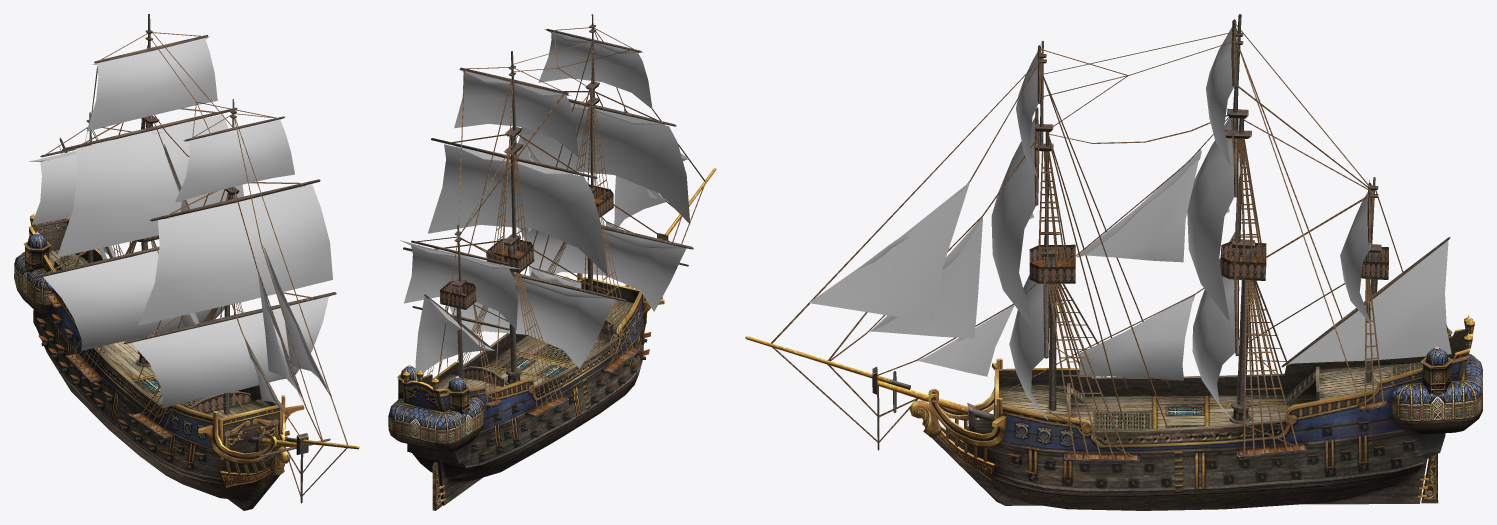
Rendered from T_Ship_13.fbx.
3 views of the same model, side by side, from view 1: azimuth 30°, elevation 25°; view 2: azimuth 150°, elevation 25°; view 3: azimuth 270°, elevation 25° (orthographic). The views are drawn at different scales.
Parts seen in each view (by area): view 1: T_Ship_p1, T_Ship_13, T_Ship_13_p2, T_Ship_13_p3, T_Ship_p1_off, T_Ship_13_p4; view 2: T_Ship_p1, T_Ship_13, T_Ship_13_p2, T_Ship_p1_off, T_Ship_13_p3, T_Ship_13_p4, T_Ship_13_p5; view 3: T_Ship_13, T_Ship_p1, T_Ship_13_p2, T_Ship_13_p3, T_Ship_13_p4, T_Ship_p1_off.
Boxes of the visible parts, box(x1,y1,x2,y2) form: T_Ship_p1: box(31, 38, 332, 407); T_Ship_13: box(14, 14, 359, 503); T_Ship_13_p2: box(33, 309, 289, 480); T_Ship_13_p3: box(47, 353, 257, 500); T_Ship_p1_off: box(28, 36, 329, 413); T_Ship_13_p4: box(228, 446, 290, 510); T_Ship_p1: box(404, 33, 690, 380); T_Ship_13: box(388, 14, 716, 452); T_Ship_13_p2: box(407, 331, 651, 468); T_Ship_p1_off: box(400, 29, 688, 350); T_Ship_13_p3: box(414, 370, 639, 481); T_Ship_13_p4: box(435, 288, 636, 505); T_Ship_13_p5: box(432, 462, 445, 510); T_Ship_13: box(745, 14, 1482, 481); T_Ship_p1: box(809, 22, 1451, 421); T_Ship_13_p2: box(965, 419, 1445, 491); T_Ship_13_p3: box(985, 465, 1421, 510); T_Ship_13_p4: box(909, 400, 1426, 505); T_Ship_p1_off: box(856, 44, 1445, 361).
Size of the model in its own units: 5.81 by 9.97 by 13.57.
